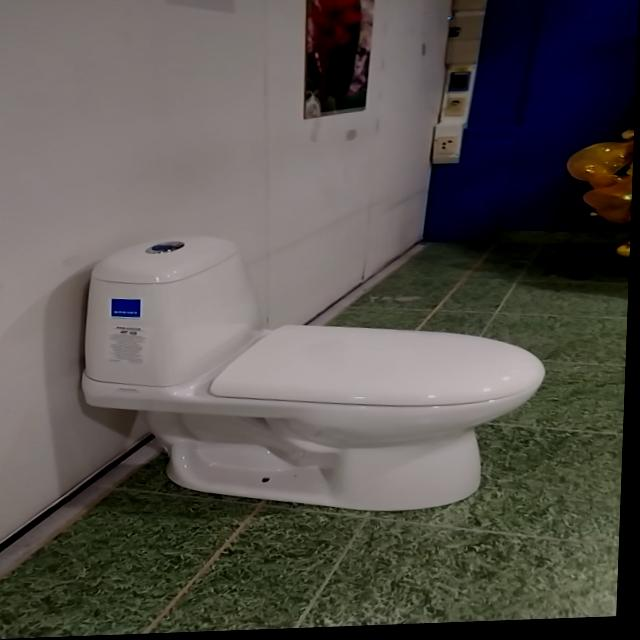toilet: (80, 226, 554, 524)
